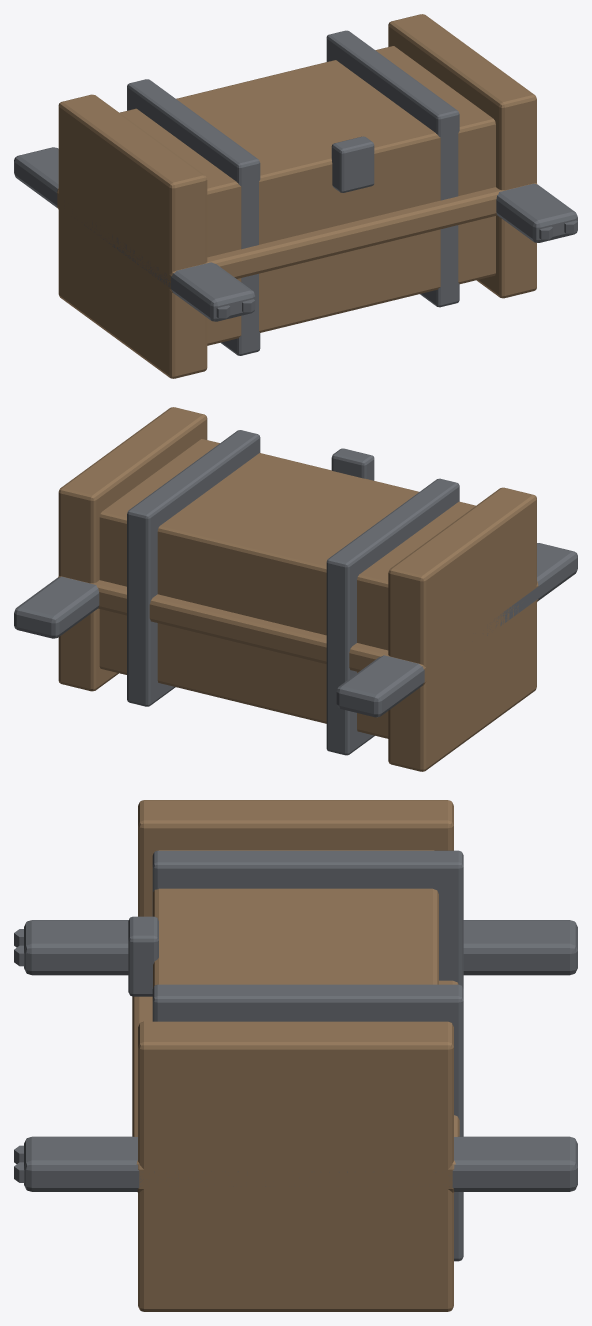
Rendered from monks_chest.glb.
The picture shows the model from 3 angles, top to bottom: view 1: azimuth 30°, elevation 25°; view 2: azimuth 150°, elevation 25°; view 3: azimuth 270°, elevation 25°; orthographic projection. The views are drawn at different scales.
Parts seen in each view (by area): view 1: 113-monks-chest/0, 113-monks-chest/1, 113-monks-chest/lid-monks-chest/oak, 113-monks-chest/lid-monks-chest/iron; view 2: 113-monks-chest/0, 113-monks-chest/1, 113-monks-chest/lid-monks-chest/iron, 113-monks-chest/lid-monks-chest/oak; view 3: 113-monks-chest/0, 113-monks-chest/1, 113-monks-chest/lid-monks-chest/iron, 113-monks-chest/lid-monks-chest/oak.
Boxes of the visible parts, bbox=[...] form: 113-monks-chest/0: bbox=[58, 14, 536, 378]; 113-monks-chest/1: bbox=[127, 30, 459, 355]; 113-monks-chest/lid-monks-chest/oak: bbox=[57, 183, 537, 293]; 113-monks-chest/lid-monks-chest/iron: bbox=[14, 147, 577, 321]; 113-monks-chest/0: bbox=[58, 407, 536, 771]; 113-monks-chest/1: bbox=[127, 430, 459, 755]; 113-monks-chest/lid-monks-chest/iron: bbox=[14, 543, 577, 717]; 113-monks-chest/lid-monks-chest/oak: bbox=[58, 576, 538, 685]; 113-monks-chest/0: bbox=[138, 800, 453, 1311]; 113-monks-chest/1: bbox=[128, 850, 463, 1261]; 113-monks-chest/lid-monks-chest/iron: bbox=[14, 920, 577, 1191]; 113-monks-chest/lid-monks-chest/oak: bbox=[132, 980, 459, 1192].
Bounding box in the file's own units: 1 × 0.5102 × 0.9662.
